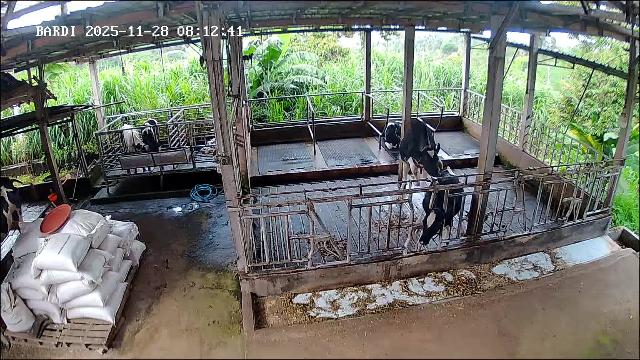mounting: (396, 118, 448, 200)
